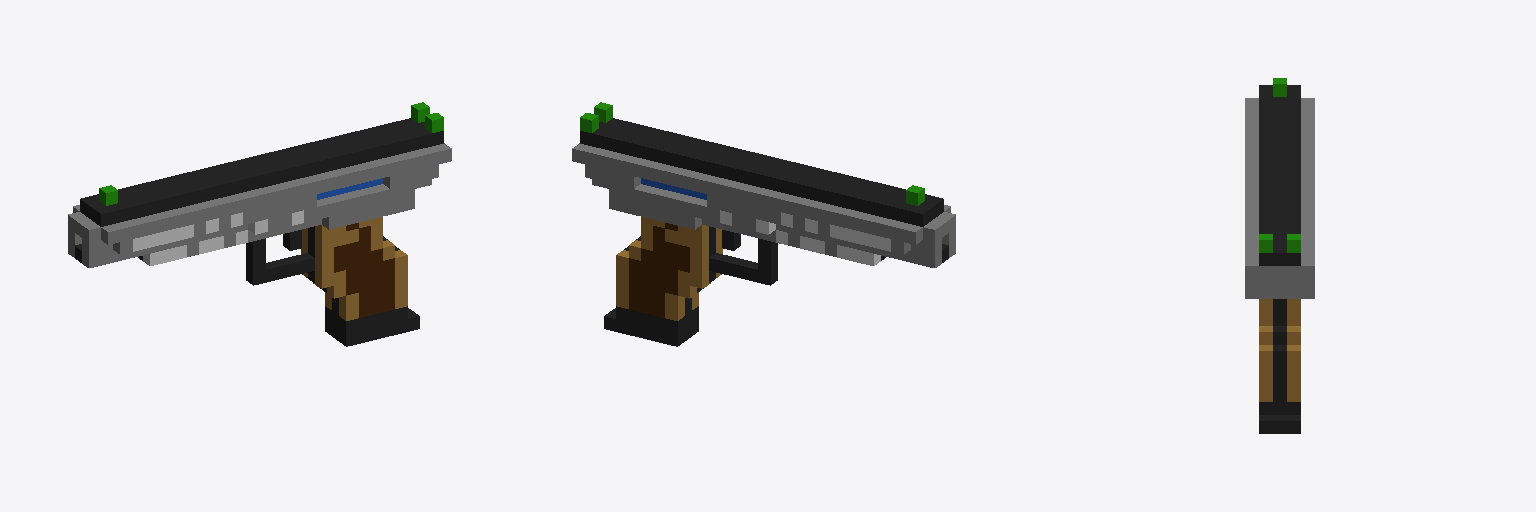
The picture shows the model from 3 angles: view 1: azimuth 30°, elevation 25°; view 2: azimuth 150°, elevation 25°; view 3: azimuth 270°, elevation 25°; orthographic projection.
Visible parts, largest first — view 1: object 1; view 2: object 1; view 3: object 1.
Part boxes in pixels (left/top/right/bottom): object 1: left=68, top=102, right=451, bottom=346; object 1: left=572, top=102, right=955, bottom=346; object 1: left=1245, top=78, right=1314, bottom=433.
Bounding box in the file's own units: 2.9 × 1.6 × 0.5.
Materials: 1 (1 with a texture image).